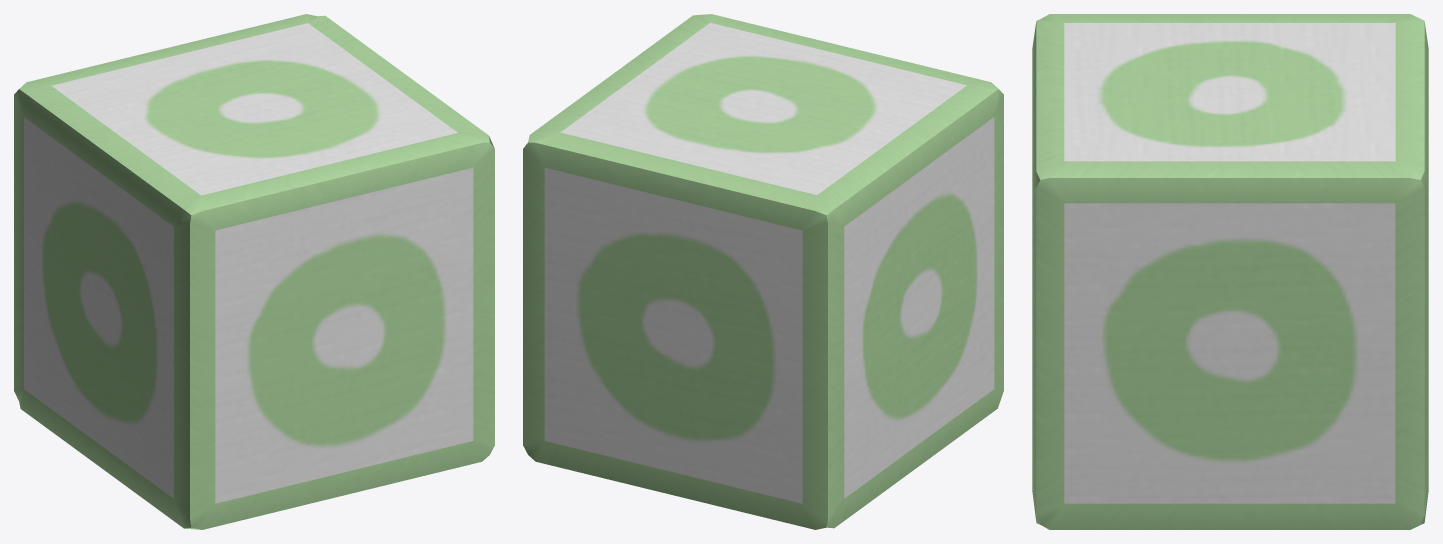
File: BlockO.fbx
The picture shows the model from 3 angles, left to right: view 1: azimuth 30°, elevation 25°; view 2: azimuth 150°, elevation 25°; view 3: azimuth 270°, elevation 25°; orthographic projection. The views are drawn at different scales.
Visible parts, largest first — view 1: pCube1; view 2: pCube1; view 3: pCube1.
Part boxes in pixels (bbox=[...]): pCube1: bbox=[14, 14, 494, 529]; pCube1: bbox=[523, 14, 1003, 529]; pCube1: bbox=[1032, 14, 1428, 529].
Bounding box in the file's own units: 9 × 9 × 9.
